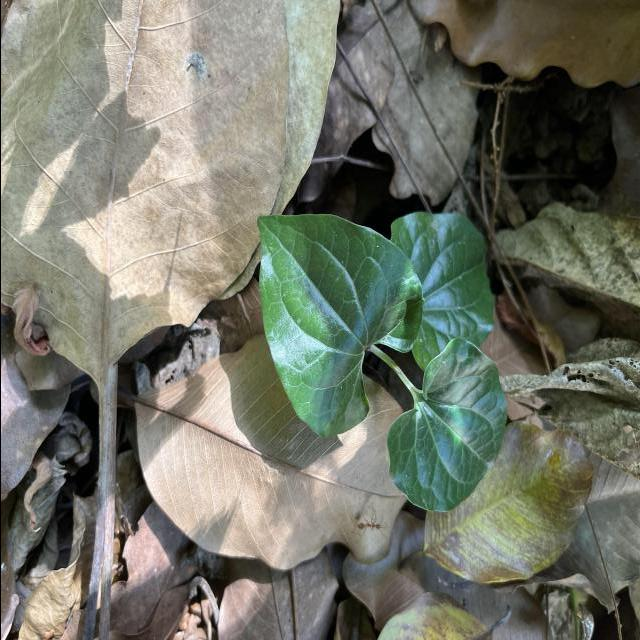Piper longum: (253, 210, 425, 442), (382, 336, 508, 515)
